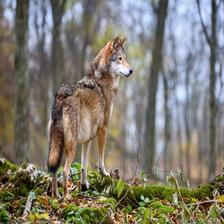WOLF: (50, 37, 135, 195)
